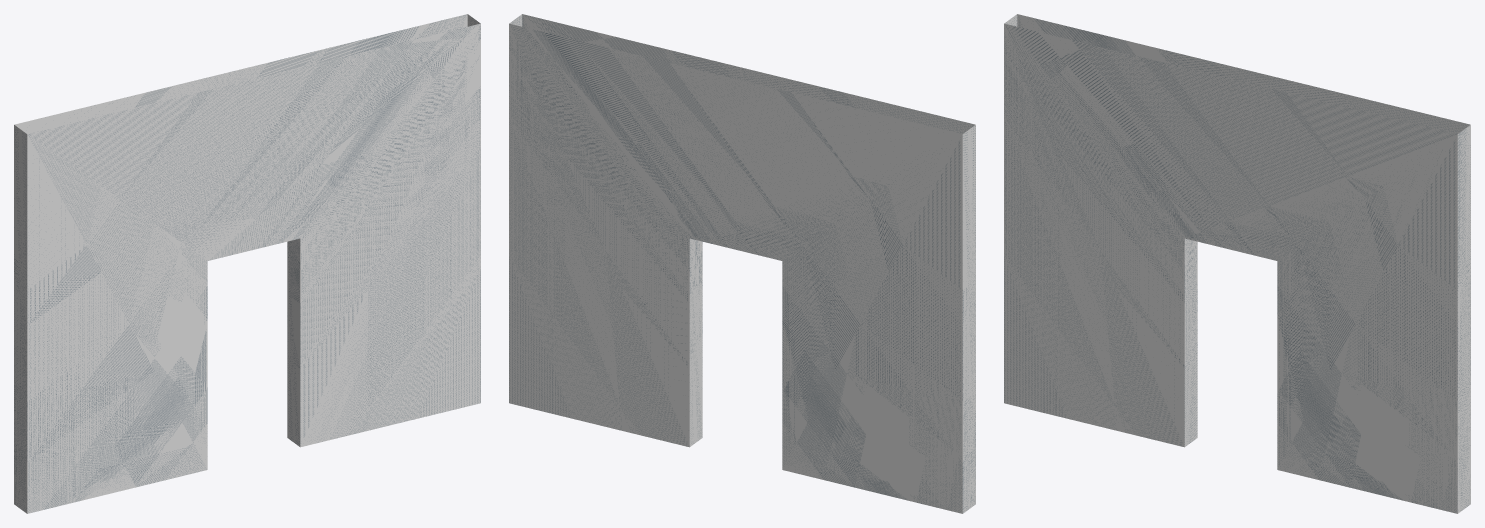
The model's file is BlockWall_ds_[500x400x025]_102x220_doorway.dae.
3 views of the same model, side by side, from view 1: azimuth 30°, elevation 25°; view 2: azimuth 150°, elevation 25°; view 3: azimuth 330°, elevation 25° (orthographic).
Parts seen in each view (by area): view 1: group_0; view 2: group_0; view 3: group_0.
Part boxes in pixels (<box>): group_0: <box>14,14,480,513</box>; group_0: <box>509,14,975,513</box>; group_0: <box>1004,14,1470,513</box>.
Bounding box in the file's own units: 197 × 9.84 × 157.
